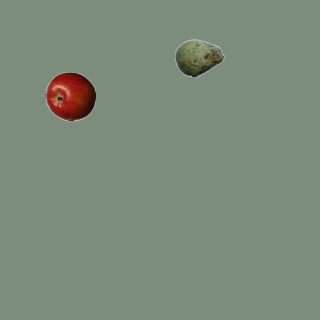Apple Braeburn: (45, 71, 95, 121)
Pear Stone: (174, 33, 224, 83)
